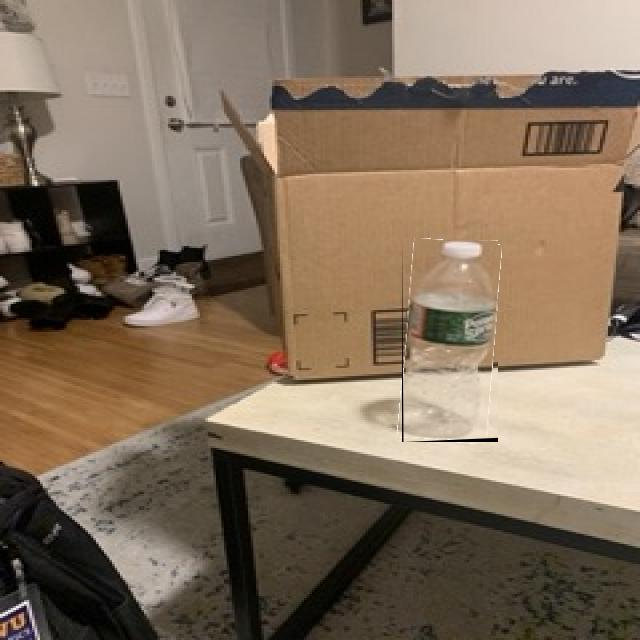water_bottle: (402, 240, 498, 442)
